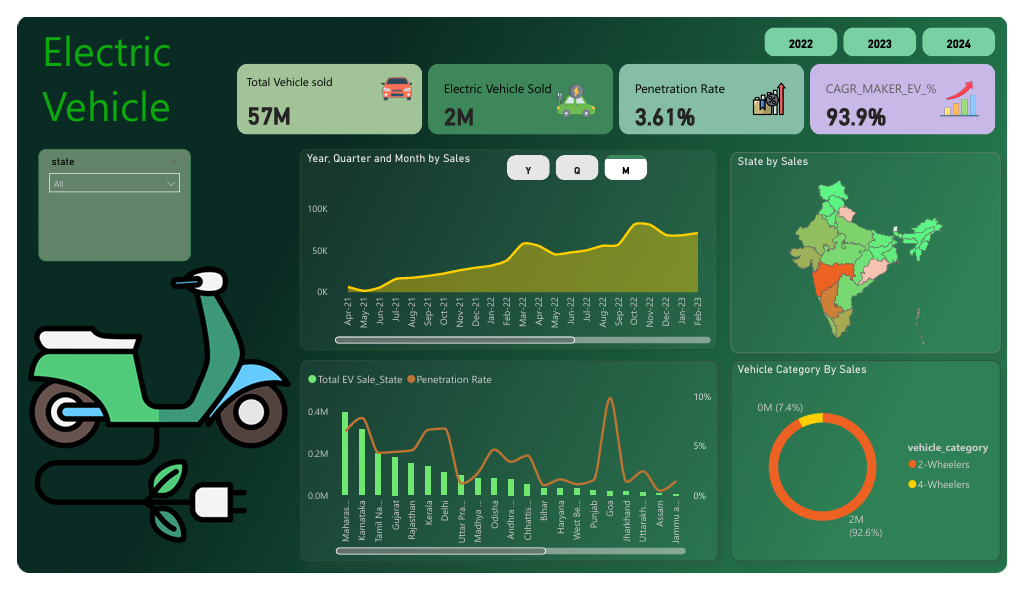

The dashboard page shown, as its layout file describes it:
{"tool":"powerbi","page":{"name":"Page 1","canvas":[1280,720],"ordinal":0},"visuals":[{"type":"textbox","box":[27.2,0,199.3,156.3],"z":0},{"type":"lineClusteredColumnComboChart","fields":{"Category":["electric_vehicle_sales_by_state.state"],"Y":["Keymatrix.Total EV Sale_State"],"Y2":["Keymatrix.Penetration Rate"]},"box":[366.3,443.3,539.4,259.6],"z":1000},{"type":"cardVisual","fields":{"Data":["Sum(electric_vehicle_sales_by_state.total_vehicles_sold)","Sum(electric_vehicle_sales_by_state.electric_vehicles_sold)","Keymatrix.Penetration Rate","Keymatrix.CAGR_MAKER_EV_%"]},"box":[279.2,55.3,992.2,101.9],"z":2000},{"type":"image","box":[0,315.1,366.7,370.6],"z":3000},{"type":"advancedSlicerVisual","fields":{"Values":["dim_date.fiscal_year.Variation.Date Hierarchy.Year"]},"box":[750,8.6,311.4,47.1],"z":4000},{"type":"slicer","fields":{"Values":["electric_vehicle_sales_by_state.state"]},"box":[27.1,170,197.1,81.4],"z":5000},{"type":"group","id":"g1","title":"Line Chart","box":[365.3,170.3,540,260.8],"z":6000},{"type":"areaChart","title":"Year, Quarter and Month by Sales ","fields":{"Category":["dim_date.Month-Year"],"Y":["Sum(electric_vehicle_sales_by_makers.electric_vehicles_sold)"]},"box":[365.3,170.3,539.6,260.3],"z":7000,"group":"g1"},{"type":"shapeMap","title":"State by Sales","fields":{"Value":["Keymatrix.Total Electric Vehicle Sale"],"Category":["electric_vehicle_sales_by_state.state"]},"box":[922,173.9,349.5,259.9],"z":7000},{"type":"advancedSlicerVisual","fields":{"Values":["Dynamic_Date.Dynamic_Date"]},"box":[627.8,173,192.9,42.8],"z":8000,"group":"g1"},{"type":"donutChart","title":"Vehicle Category By Sales ","fields":{"Category":["electric_vehicle_sales_by_state.vehicle_category"],"Y":["Keymatrix.Total Electric Vehicle Sale_State"]},"box":[922.1,443.3,349,259.6],"z":8000},{"type":"actionButton","box":[1221.7,0,50,44.2],"z":9000}]}

Visuals, with their boxes in screenshot pixels (x1, y1, x2, y2), scaled from the page's 1280x720 canvas onto the 1024x590 screenshot:
textbox: (x1=22, y1=0, x2=181, y2=128)
lineClusteredColumnComboChart - electric_vehicle_sales_by_state.state x Keymatrix.Total EV Sale_State: (x1=293, y1=363, x2=725, y2=576)
cardVisual - Sum(electric_vehicle_sales_by_state.total_vehicles_sold) x Sum(electric_vehicle_sales_by_state.electric_vehicles_sold): (x1=223, y1=45, x2=1017, y2=129)
image: (x1=0, y1=258, x2=293, y2=562)
advancedSlicerVisual - dim_date.fiscal_year.Variation.Date Hierarchy.Year: (x1=600, y1=7, x2=849, y2=46)
slicer - electric_vehicle_sales_by_state.state: (x1=22, y1=139, x2=179, y2=206)
"Line Chart" group: (x1=292, y1=140, x2=724, y2=353)
"Year, Quarter and Month by Sales " areaChart: (x1=292, y1=140, x2=724, y2=353)
"State by Sales" shapeMap: (x1=738, y1=143, x2=1017, y2=355)
advancedSlicerVisual - Dynamic_Date.Dynamic_Date: (x1=502, y1=142, x2=657, y2=177)
"Vehicle Category By Sales " donutChart: (x1=738, y1=363, x2=1017, y2=576)
actionButton: (x1=977, y1=0, x2=1017, y2=36)
